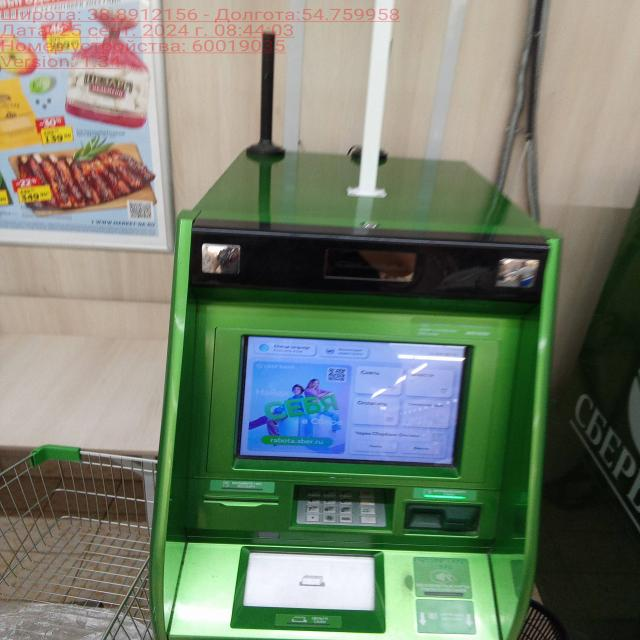bank: (152, 142, 558, 640)
